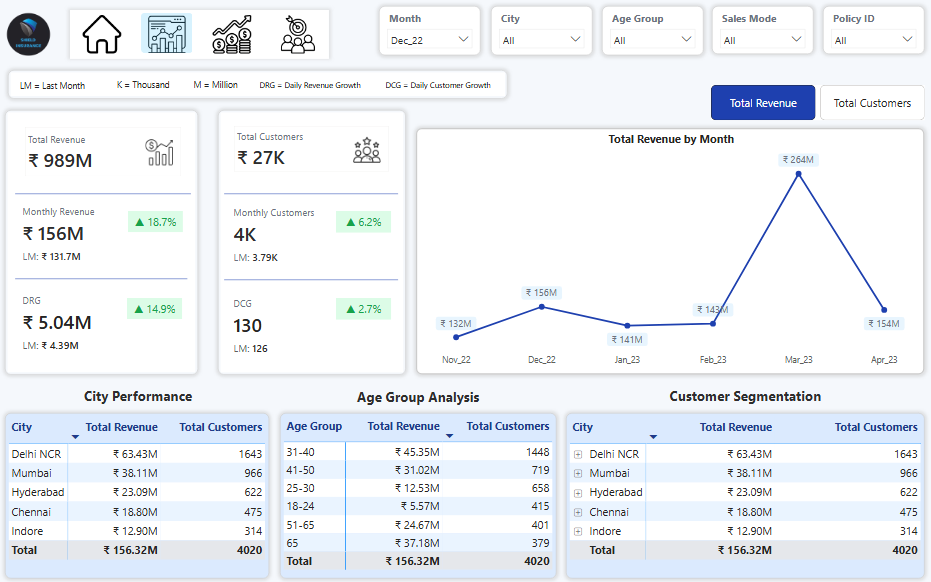

The page's visual inventory and layout, read from the dashboard file:
{"tool":"powerbi","page":{"name":"General View","canvas":[1600,1000],"ordinal":1},"visuals":[{"type":"slicer","fields":{"Values":["dim_date.mmm_yy"]},"box":[652.7,10.9,172.7,83.6],"z":0},{"type":"group","id":"g1","title":"Group 2","box":[125.8,17.7,441.1,83.3],"z":0,"group":"g2"},{"type":"shape","box":[125.8,17.7,441.1,83.3],"z":0,"group":"g1"},{"type":"shape","box":[20,120,851.4,48.6],"z":0,"group":"g9"},{"type":"shape","box":[16,188,328.6,451],"z":0,"group":"g5"},{"type":"shape","box":[378,188,320,451.4],"z":0,"group":"g8"},{"type":"slicer","fields":{"Values":["dim_customer.city"]},"box":[843.6,10.9,172.7,83.6],"z":1000},{"type":"image","box":[140.5,25.4,77.7,65.8],"z":1000,"group":"g1"},{"type":"actionButton","box":[139.4,26.3,81.8,64.1],"z":1000,"group":"g2"},{"type":"shape","box":[32.7,310.2,300,40],"z":1000,"group":"g5"},{"type":"slicer","fields":{"Values":["dim_customer.Age Group"]},"box":[1032.7,10.9,172.7,83.6],"z":2000},{"type":"actionButton","box":[247.5,23.3,87.4,68.2],"z":2000,"group":"g2"},{"type":"image","box":[251.8,25.4,77.7,65.8],"z":2000,"group":"g1"},{"type":"slicer","fields":{"Values":["fact_premiums.sales_mode"]},"box":[1220,10.9,172.7,81.8],"z":3000},{"type":"image","box":[363.2,25.4,77.7,65.8],"z":3000,"group":"g1"},{"type":"actionButton","box":[363.3,27.9,77.8,62.8],"z":3000,"group":"g2"},{"type":"slicer","fields":{"Values":["fact_premiums.policy_id"]},"box":[1409.1,10.9,172.7,81.8],"z":4000},{"type":"image","box":[474.5,25.4,77.7,65.8],"z":4000,"group":"g1"},{"type":"actionButton","box":[475.1,27.9,77.8,62.8],"z":4000,"group":"g2"},{"type":"pivotTable","fields":{"Rows":["dim_customer.Age Group"],"Values":["Key_measures.Total Revenue","Key_measures.Total Customers"]},"box":[483,703.1,471,282.3],"z":5000},{"type":"pivotTable","fields":{"Rows":["dim_customer.city","dim_customer.Age Group"],"Values":["Key_measures.Total Revenue","Key_measures.Total Customers"]},"box":[971.4,703.1,611.3,282.3],"z":6000},{"type":"image","box":[15.9,17.7,79.7,83.3],"z":7000},{"type":"lineChart","fields":{"Y":["Key_measures.Total Revenue"],"Category":["dim_date.mmm_yy"]},"box":[716,218,866,420],"z":8000,"group":"g10"},{"type":"textbox","title":"City Performance","box":[19,654.6,446.8,39.8],"z":8000},{"type":"advancedSlicerVisual","fields":{"Values":["Trend Metric.Trend Metric"]},"box":[1218,144,364,60],"z":9000,"group":"g10"},{"type":"textbox","title":"Age Group Analysis","box":[483,656.3,471,41.6],"z":9000},{"type":"textbox","title":"Customer Segmentation","box":[971.4,654.6,611.3,45],"z":10000},{"type":"group","id":"g2","title":"Group 3","box":[125.8,17.7,441.1,83.3],"z":11000},{"type":"pivotTable","title":"City Performance","fields":{"Rows":["dim_customer.city"],"Values":["Key_measures.Total Revenue","Key_measures.Total Customers"]},"box":[15.5,703.1,450.2,282.3],"z":12000},{"type":"cardVisual","fields":{"Data":["Key_measures.KPI Total Customers"]},"box":[388,198,298.6,112.9],"z":14500,"group":"g8"},{"type":"cardVisual","fields":{"Data":["Key_measures.KPI Total Revenue"]},"box":[32.3,200.2,300,118.4],"z":14500,"group":"g5"},{"type":"cardVisual","fields":{"Data":["Key_measures.Total Revenue"]},"box":[29.9,340.2,302.9,130],"z":15000,"group":"g3"},{"type":"cardVisual","fields":{"Data":["Key_measures.Total Customers"]},"box":[388,340.9,298.6,130],"z":15000,"group":"g6"},{"type":"cardVisual","fields":{"Data":["Key_measures.DRG"]},"box":[29.9,491.7,300,130.6],"z":15000,"group":"g4"},{"type":"shape","box":[578,359.5,94.3,37.1],"z":15500,"group":"g6"},{"type":"shape","box":[225.8,360.3,93.6,36.1],"z":15500,"group":"g3"},{"type":"shape","box":[388,310.9,297.1,40],"z":16003,"group":"g8"},{"type":"shape","box":[32.7,127.7,136.4,33.6],"z":17000,"group":"g9"},{"type":"shape","box":[186.8,127.1,118.6,34.3],"z":18000,"group":"g9"},{"type":"shape","box":[224.2,508.8,94.3,35.7],"z":18500,"group":"g4"},{"type":"shape","box":[32.7,456,294.3,40],"z":18502,"group":"g5"},{"type":"group","id":"g3","title":"Group 4","box":[29.9,340.2,302.9,130],"z":18503,"group":"g5"},{"type":"group","id":"g4","title":"Group 5","box":[29.9,491.7,300,130.6],"z":18504,"group":"g5"},{"type":"group","id":"g5","title":"Group 9","box":[16,188,328,452],"z":18505},{"type":"cardVisual","fields":{"Data":["Key_measures.DCG"]},"box":[388,496.6,298.6,130],"z":18506,"group":"g7"},{"type":"shape","box":[388,456.6,297.1,40],"z":18507,"group":"g8"},{"type":"shape","box":[578,508,94.3,37.1],"z":18508,"group":"g7"},{"type":"group","id":"g6","title":"Group 1","box":[388,340.9,298.6,130],"z":18509,"group":"g8"},{"type":"group","id":"g7","title":"Group 6","box":[388,496.6,298.6,130],"z":18510,"group":"g8"},{"type":"group","id":"g8","title":"Group 10","box":[378,188,320,450],"z":18511},{"type":"shape","box":[323.1,127.1,92.9,34.3],"z":19000,"group":"g9"},{"type":"shape","box":[433.7,127.1,201.4,34.3],"z":19001,"group":"g9"},{"type":"shape","box":[652.9,127.1,201.4,34.3],"z":19002,"group":"g9"},{"type":"group","id":"g9","title":"Group 7","box":[20,120,851.4,48.6],"z":19003},{"type":"group","id":"g10","title":"Group 8","box":[716,144,866,494],"z":19004}]}

Visuals, with their boxes in screenshot pixels (x1, y1, x2, y2), scaled from the page's 1600x1000 canvas onto the 931x582 screenshot:
slicer - dim_date.mmm_yy: bbox=[380, 6, 480, 55]
"Group 2" group: bbox=[73, 10, 330, 59]
shape: bbox=[73, 10, 330, 59]
shape: bbox=[12, 70, 507, 98]
shape: bbox=[9, 109, 201, 372]
shape: bbox=[220, 109, 406, 372]
slicer - dim_customer.city: bbox=[491, 6, 591, 55]
image: bbox=[82, 15, 127, 53]
actionButton: bbox=[81, 15, 129, 53]
shape: bbox=[19, 181, 194, 204]
slicer - dim_customer.Age Group: bbox=[601, 6, 701, 55]
actionButton: bbox=[144, 14, 195, 53]
image: bbox=[147, 15, 192, 53]
slicer - fact_premiums.sales_mode: bbox=[710, 6, 810, 54]
image: bbox=[211, 15, 257, 53]
actionButton: bbox=[211, 16, 257, 53]
slicer - fact_premiums.policy_id: bbox=[820, 6, 920, 54]
image: bbox=[276, 15, 321, 53]
actionButton: bbox=[276, 16, 322, 53]
pivotTable - dim_customer.Age Group x Key_measures.Total Revenue: bbox=[281, 409, 555, 574]
pivotTable - dim_customer.city x dim_customer.Age Group: bbox=[565, 409, 921, 574]
image: bbox=[9, 10, 56, 59]
lineChart - Key_measures.Total Revenue x dim_date.mmm_yy: bbox=[417, 127, 921, 371]
"City Performance" textbox: bbox=[11, 381, 271, 404]
advancedSlicerVisual - Trend Metric.Trend Metric: bbox=[709, 84, 921, 119]
"Age Group Analysis" textbox: bbox=[281, 382, 555, 406]
"Customer Segmentation" textbox: bbox=[565, 381, 921, 407]
"Group 3" group: bbox=[73, 10, 330, 59]
"City Performance" pivotTable: bbox=[9, 409, 271, 574]
cardVisual - Key_measures.KPI Total Customers: bbox=[226, 115, 400, 181]
cardVisual - Key_measures.KPI Total Revenue: bbox=[19, 117, 193, 185]
cardVisual - Key_measures.Total Revenue: bbox=[17, 198, 194, 274]
cardVisual - Key_measures.Total Customers: bbox=[226, 198, 400, 274]
cardVisual - Key_measures.DRG: bbox=[17, 286, 192, 362]
shape: bbox=[336, 209, 391, 231]
shape: bbox=[131, 210, 186, 231]
shape: bbox=[226, 181, 399, 204]
shape: bbox=[19, 74, 98, 94]
shape: bbox=[109, 74, 178, 94]
shape: bbox=[130, 296, 185, 317]
shape: bbox=[19, 265, 190, 289]
"Group 4" group: bbox=[17, 198, 194, 274]
"Group 5" group: bbox=[17, 286, 192, 362]
"Group 9" group: bbox=[9, 109, 200, 372]
cardVisual - Key_measures.DCG: bbox=[226, 289, 400, 365]
shape: bbox=[226, 266, 399, 289]
shape: bbox=[336, 296, 391, 317]
"Group 1" group: bbox=[226, 198, 400, 274]
"Group 6" group: bbox=[226, 289, 400, 365]
"Group 10" group: bbox=[220, 109, 406, 371]
shape: bbox=[188, 74, 242, 94]
shape: bbox=[252, 74, 370, 94]
shape: bbox=[380, 74, 497, 94]
"Group 7" group: bbox=[12, 70, 507, 98]
"Group 8" group: bbox=[417, 84, 921, 371]
